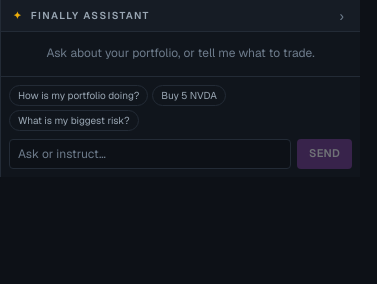
Test: ChatPanel round trip › sends a suggestion chip with one click
Click the button "Buy 5 NVDA" at (189,95), box 152,84 -> 226,106
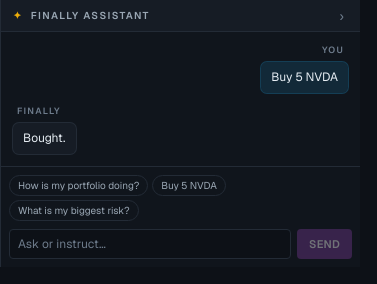
Expected: the text "Bought." is shown, 13,122 -> 76,154
